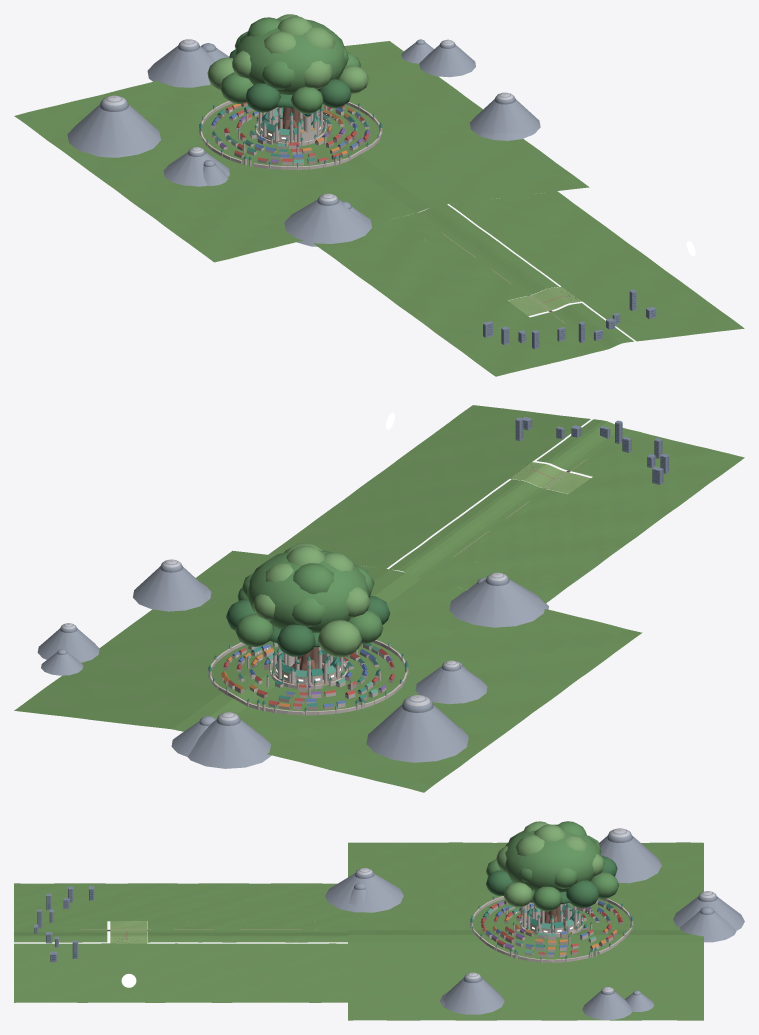
The model's file is cine_holywar.glb.
3 views of the same model, one above another, from view 1: azimuth 30°, elevation 25°; view 2: azimuth 150°, elevation 25°; view 3: azimuth 270°, elevation 25° (orthographic). The views are drawn at different scales.
Visible parts, largest first — view 1: ground_grass_d, far_mount_far, far_eld_leaf_far, far_erk_wall_far, far_eld_leaf_l_far, far_eld_leaf_d_far, far_far_far, ground_grass, far_erk_wall_d_far, far_erk_roof_far, far_mount_l_far, far_erk_roof_r_far; view 2: ground_grass_d, far_mount_far, far_eld_leaf_far, far_erk_wall_far, far_eld_leaf_l_far, far_eld_leaf_d_far, far_far_far, ground_grass, far_erk_roof_far, far_erk_wall_d_far, far_mount_l_far; view 3: ground_grass_d, far_mount_far, far_eld_leaf_far, far_erk_wall_far, far_eld_leaf_l_far, far_eld_leaf_d_far, ground_grass, far_far_far, far_erk_wall_d_far, far_erk_roof_far, far_erk_roof_r_far, far_mount_l_far (+1 smaller).
Part boxes in pixels (box(x1,y1,x2,y2)): ground_grass_d: box(14, 41, 744, 376); far_mount_far: box(67, 39, 540, 246); far_eld_leaf_far: box(220, 17, 360, 113); far_erk_wall_far: box(199, 101, 382, 170); far_eld_leaf_l_far: box(207, 14, 368, 93); far_eld_leaf_d_far: box(229, 49, 351, 112); far_far_far: box(483, 291, 656, 349); ground_grass: box(508, 286, 581, 316); far_erk_wall_d_far: box(212, 103, 369, 164); far_erk_roof_far: box(199, 103, 382, 164); far_mount_l_far: box(103, 39, 513, 201); far_erk_roof_r_far: box(224, 102, 369, 161); ground_grass_d: box(14, 405, 744, 792); far_mount_far: box(37, 560, 548, 768); far_eld_leaf_far: box(235, 550, 383, 647); far_erk_wall_far: box(208, 640, 408, 715); far_eld_leaf_l_far: box(253, 543, 370, 657); far_eld_leaf_d_far: box(226, 596, 390, 656); far_far_far: box(515, 419, 669, 484); ground_grass: box(510, 462, 590, 494); far_erk_roof_far: box(208, 643, 408, 710); far_erk_wall_d_far: box(223, 644, 394, 710); far_mount_l_far: box(62, 559, 506, 720); ground_grass_d: box(14, 842, 703, 1020); far_mount_far: box(325, 828, 744, 1019); far_eld_leaf_far: box(486, 821, 618, 911); far_erk_wall_far: box(470, 896, 633, 962); far_eld_leaf_l_far: box(496, 821, 604, 907); far_eld_leaf_d_far: box(486, 856, 617, 908); ground_grass: box(110, 920, 147, 943); far_far_far: box(34, 886, 94, 962); far_erk_wall_d_far: box(480, 901, 622, 955); far_erk_roof_far: box(470, 896, 633, 957); far_erk_roof_r_far: box(480, 900, 622, 954); far_mount_l_far: box(357, 828, 715, 991).
Size of the model in its own units: 1118 by 345 by 1970.
